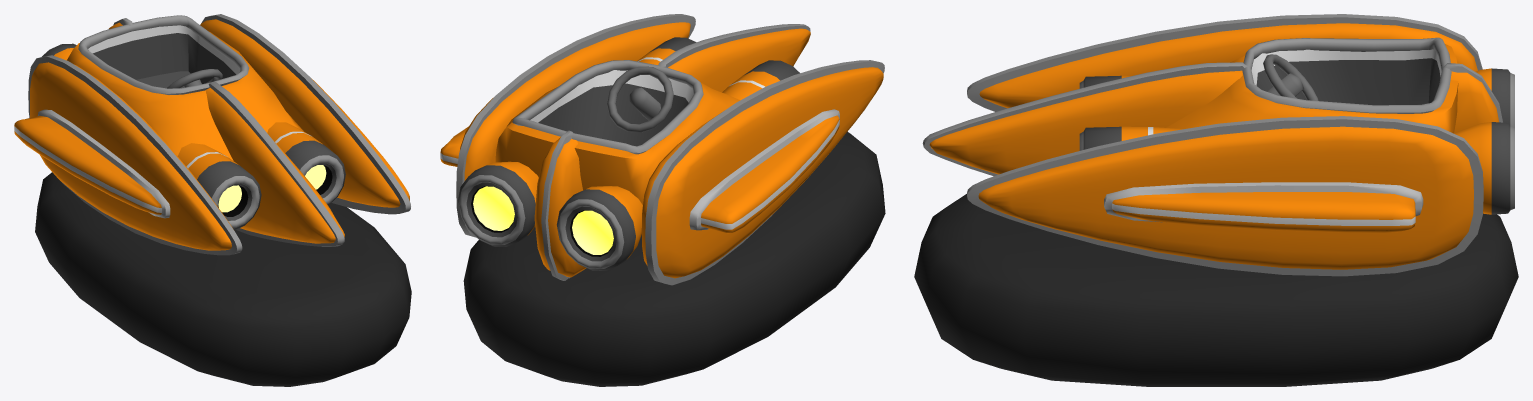
Rendered from mesh_Car_InGame_S.fbx.
3 views of the same model, side by side, from view 1: azimuth 30°, elevation 25°; view 2: azimuth 150°, elevation 25°; view 3: azimuth 270°, elevation 25° (orthographic). The views are drawn at different scales.
Parts seen in each view (by area): view 1: mesh_Car_InGame_S; view 2: mesh_Car_InGame_S; view 3: mesh_Car_InGame_S.
Part boxes in pixels (<box>): mesh_Car_InGame_S: <box>14,14,411,386</box>; mesh_Car_InGame_S: <box>440,14,885,386</box>; mesh_Car_InGame_S: <box>914,14,1518,386</box>.
Bounding box in the file's own units: 1.85 × 1.5 × 2.97.
